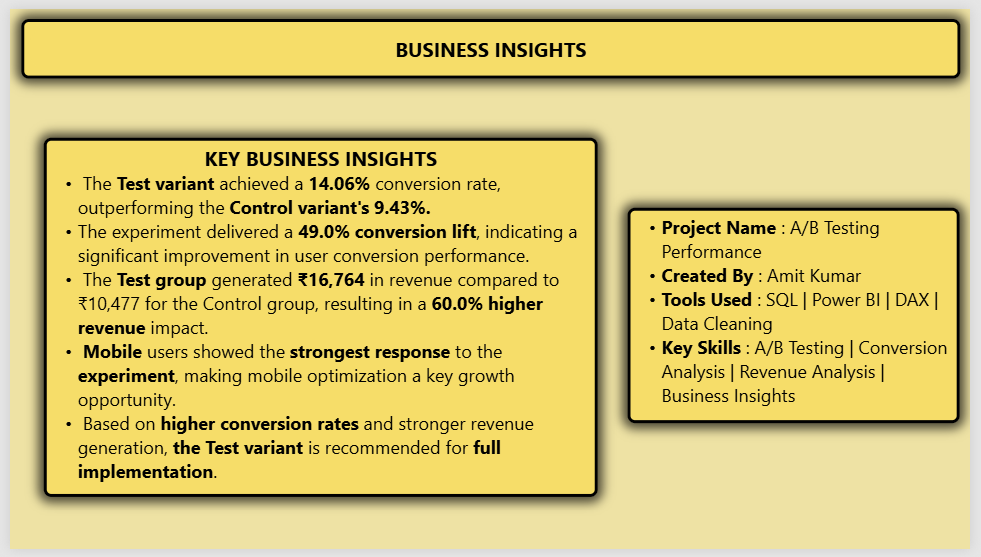

The page's visual inventory and layout, read from the dashboard file:
{"tool":"powerbi","page":{"name":"BUSINESS INSIGHTS","canvas":[3840,2160],"ordinal":1},"visuals":[{"type":"shape","box":[45,40,3750,255],"z":0},{"type":"textbox","box":[86.6,385.2,2229.1,1038.8],"z":11001},{"type":"textbox","box":[86.6,1497.6,2229.1,580],"z":11002},{"type":"textbox","box":[2436.8,826.7,1255.2,857],"z":11003}]}

Visuals, with their boxes in screenshot pixels (x1, y1, x2, y2), scaled from the page's 3840x2160 canvas onto the 981x557 screenshot:
shape: {"left": 11, "top": 10, "right": 970, "bottom": 76}
textbox: {"left": 22, "top": 99, "right": 592, "bottom": 367}
textbox: {"left": 22, "top": 386, "right": 592, "bottom": 536}
textbox: {"left": 623, "top": 213, "right": 943, "bottom": 434}
